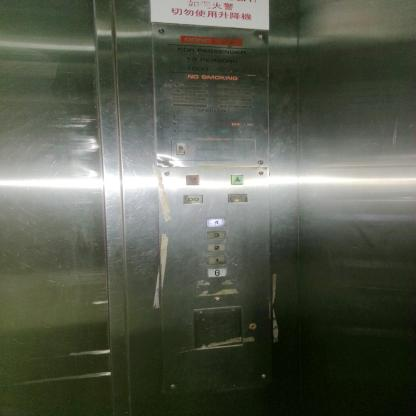1: (206, 255, 228, 264)
2: (206, 243, 227, 252)
3: (206, 230, 227, 240)
4: (206, 218, 227, 228)
DO: (183, 194, 203, 204)
G: (206, 266, 228, 278)
alarm: (176, 141, 186, 156)
down: (185, 174, 200, 186)
empty: (228, 194, 249, 204)
keyhole: (248, 321, 257, 331)
up: (230, 173, 243, 185)
